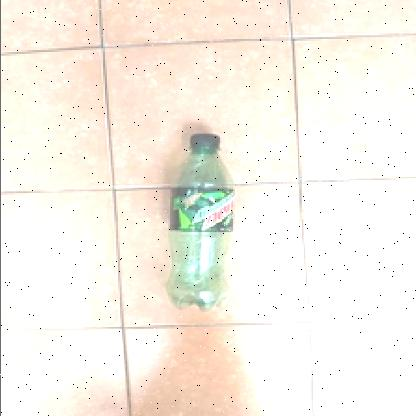Plastic Bottle: (167, 133, 235, 311)
